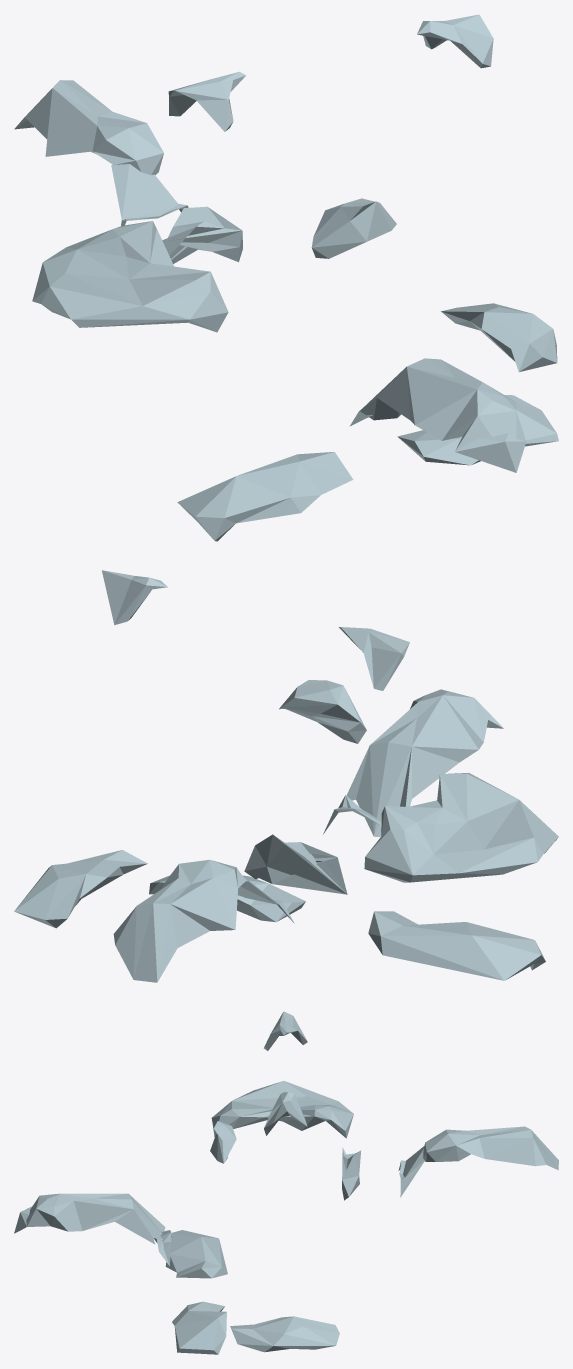
The model's file is RoofSnow.glb.
3 renders of one model, top to bottom at view 1: azimuth 30°, elevation 25°; view 2: azimuth 150°, elevation 25°; view 3: azimuth 270°, elevation 25°, orthographic. The views are drawn at different scales.
Parts seen in each view (by area): view 1: roof_snow; view 2: roof_snow; view 3: roof_snow.
Part boxes in pixels (x1,y1,x2,y2): roof_snow: (14, 14, 558, 541); roof_snow: (14, 570, 558, 982); roof_snow: (14, 1011, 558, 1354).
Bounding box in the file's own units: 26.99 × 19.59 × 37.87.
